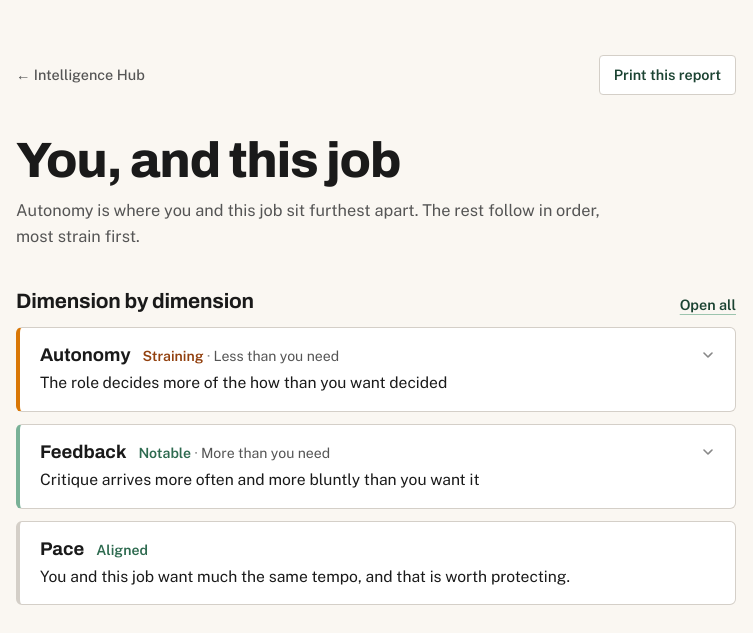
SituationReportPage › complete › shows one register at a time, as tabs, starting with the first the server sent
Check: the heading "You, and this job" is shown, box [16,133,400,187]
Click the button named "Show guidance for" in the row of "Less than you need" at (378, 370), box [20,328,735,411]
(page scrolled)
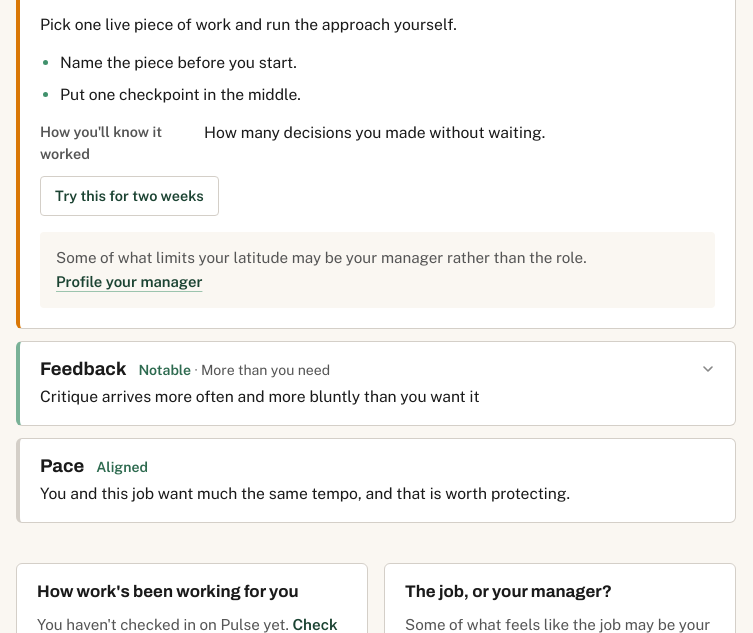
Click the button named "Show guidance for" at (378, 384), box [20,342,735,425]
(page scrolled)
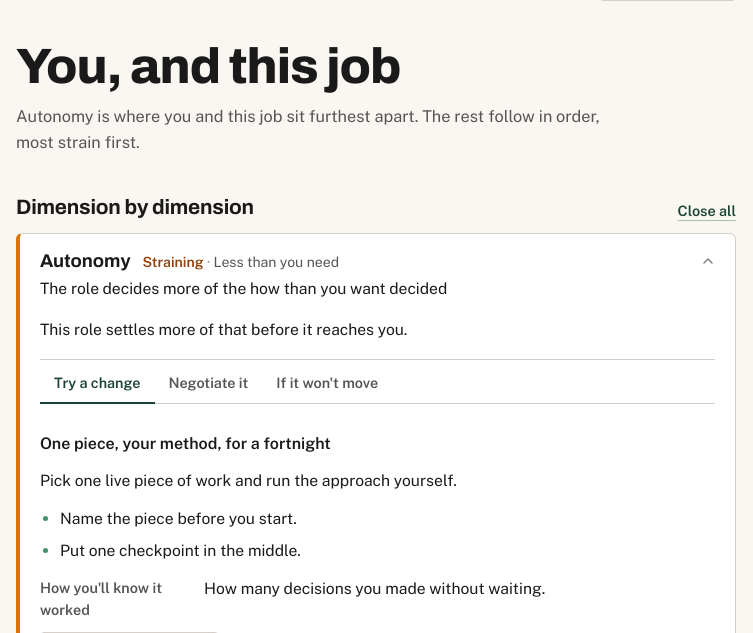
Check: the text "This role settles more of that before it reaches you." is shown, box [40,320,407,339]
Check: the tabs read "Try a change", "Negotiate it", "If it won't move", in this order
Check: the text "One piece, your method, for a fortnight" is shown, box [40,434,331,453]
Click the tab "Negotiate it" at (208, 384), box [154,364,262,404]
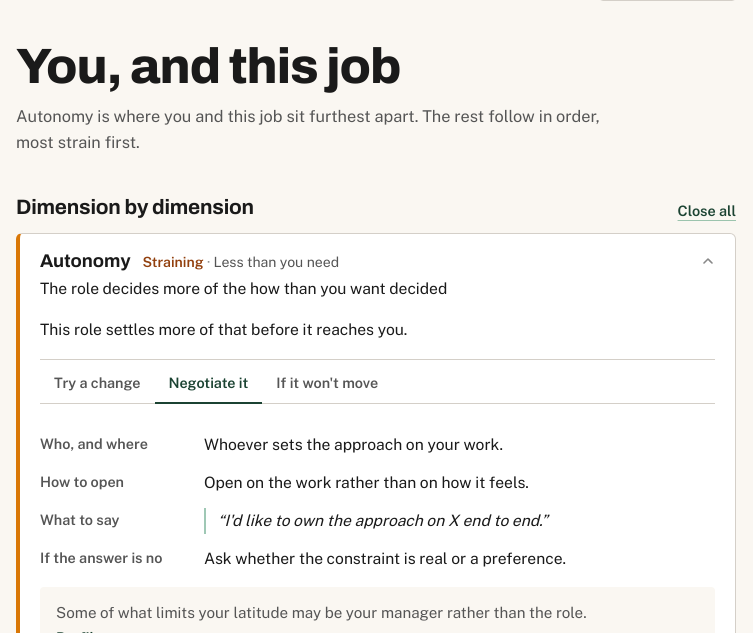
Check: the text "Whoever sets the approach on your work." is shown, box [204,435,503,454]
Check: the text "Open on the work rather than on how it feels." is shown, box [204,473,529,492]
Check: the list item "“I'd like to own the approach on X end to end.”" is shown, box [204,508,715,534]
Click the tab "If it won't move" at (327, 384), box [262,364,392,404]
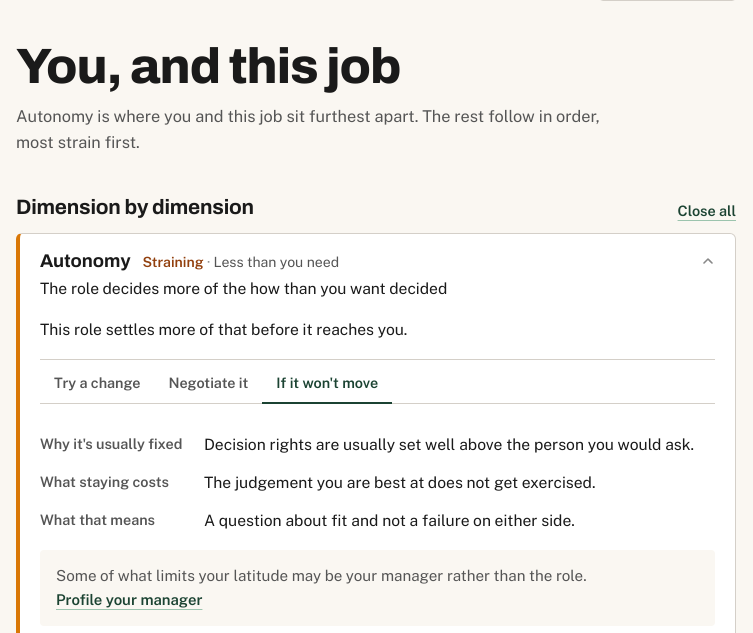
Check: the text "Decision rights are usually set well above" is shown, box [204,435,694,454]
Check: the text "The judgement you are best at does not get exercised." is shown, box [204,473,596,492]
Check: the text "A question about fit and not a failure on either side." is shown, box [204,511,575,530]
